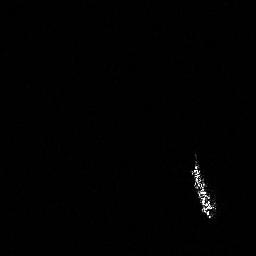ship: (188, 153, 219, 221)
